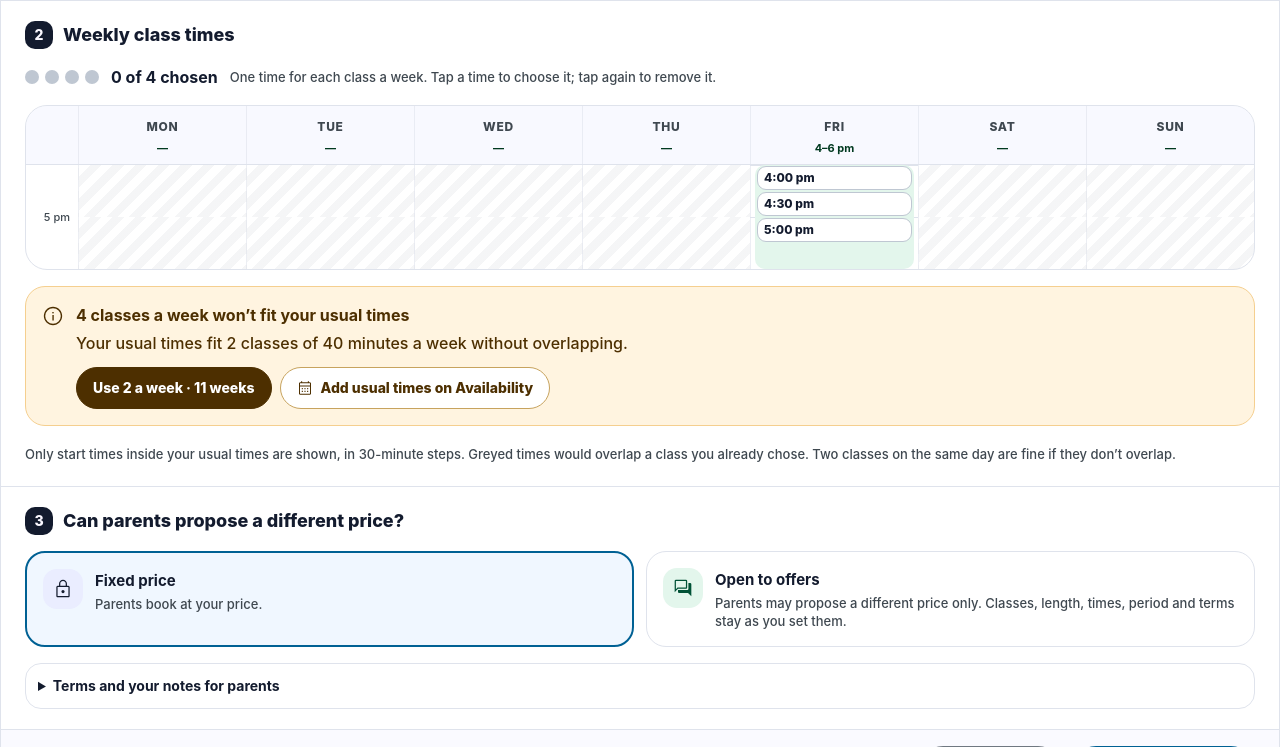
learning package builder › says when the classes a week cannot fit, and offers a number that does
This screenshot has width=1280, height=747.
(page scrolled)
Expected: the text "4 classes a week won’t fit your usual times" is shown, [76,305,409,325]
Expected: the text "fit 2 classes of 40 minutes a week" is shown, [76,333,628,353]
Step 1. Click the button "Use 2 a week · 11 weeks" → [174, 388], box [76,367,272,409]
(page scrolled)
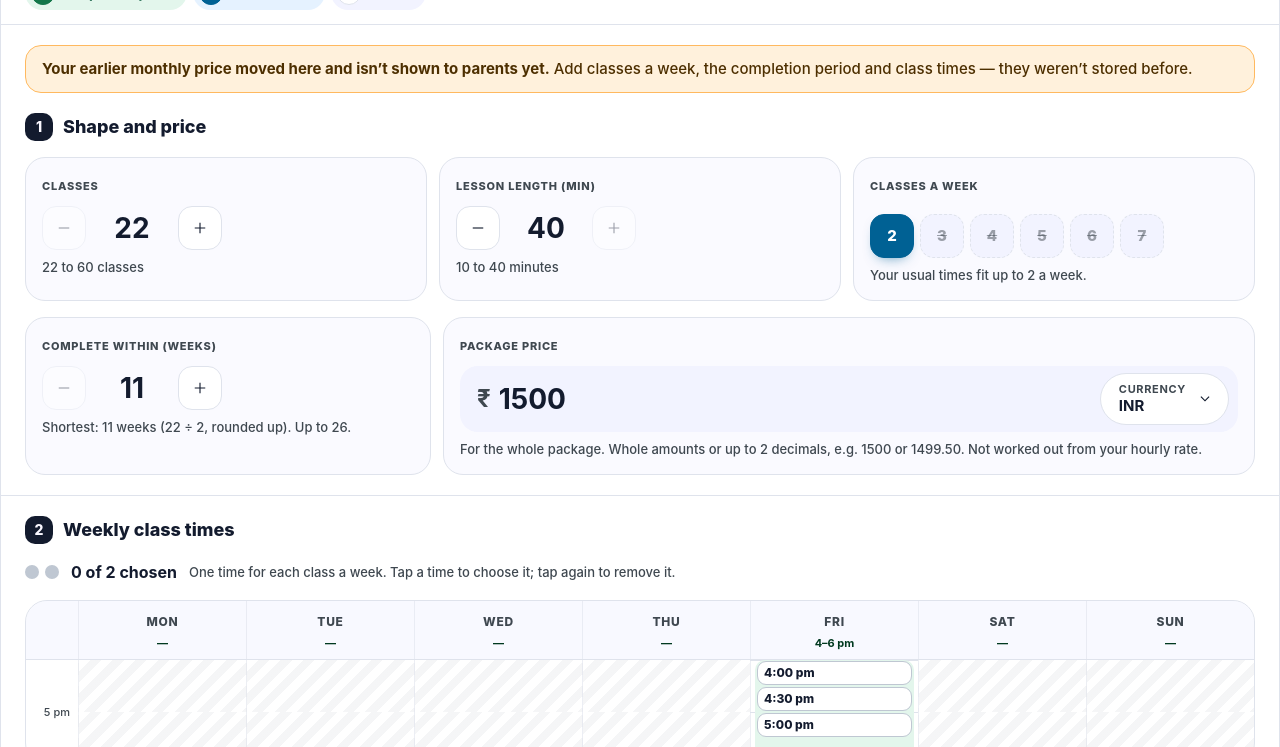
Now the field labelled "Complete within (weeks)" holds "11", box [96,366,168,410]
Now the text "won’t fit your usual times" is gone
